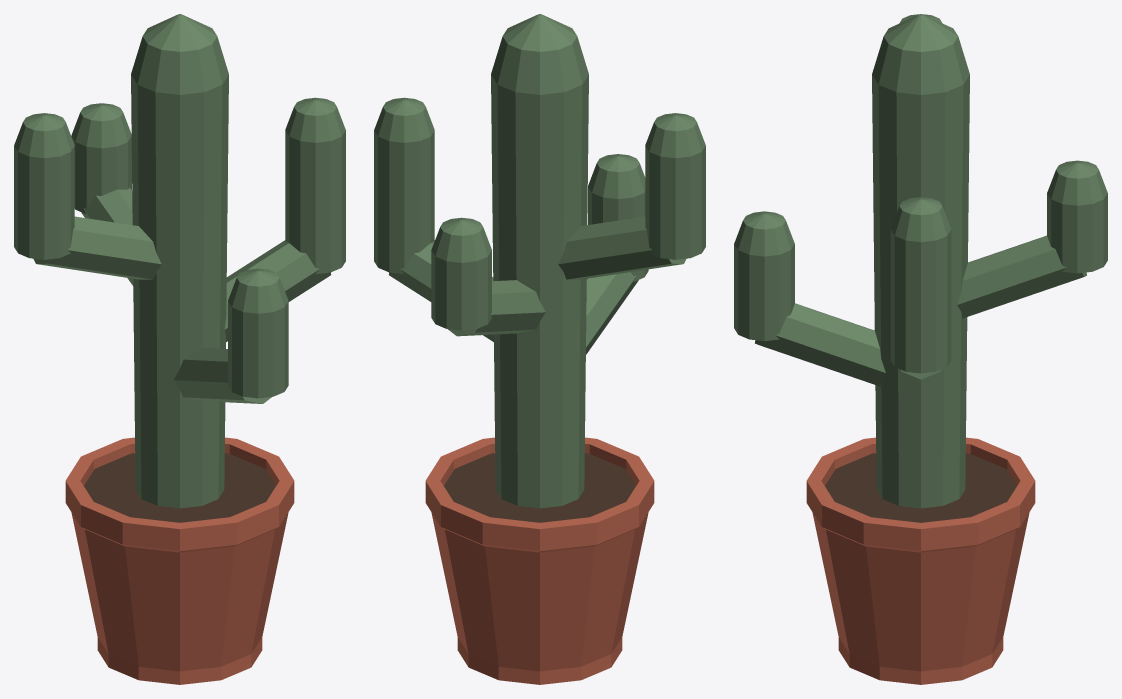
The model's file is terra-plant-cactus.glb.
The picture shows the model from 3 angles, left to right: view 1: azimuth 30°, elevation 25°; view 2: azimuth 150°, elevation 25°; view 3: azimuth 270°, elevation 25°; orthographic projection.
Visible parts, largest first — view 1: terra__plant_cactus; view 2: terra__plant_cactus; view 3: terra__plant_cactus.
Part boxes in pixels (x1,y1,x2,y2): terra__plant_cactus: (14, 14, 345, 684); terra__plant_cactus: (374, 14, 705, 684); terra__plant_cactus: (734, 14, 1107, 684).
Bounding box in the file's own units: 0.8 × 1.5 × 0.8.
